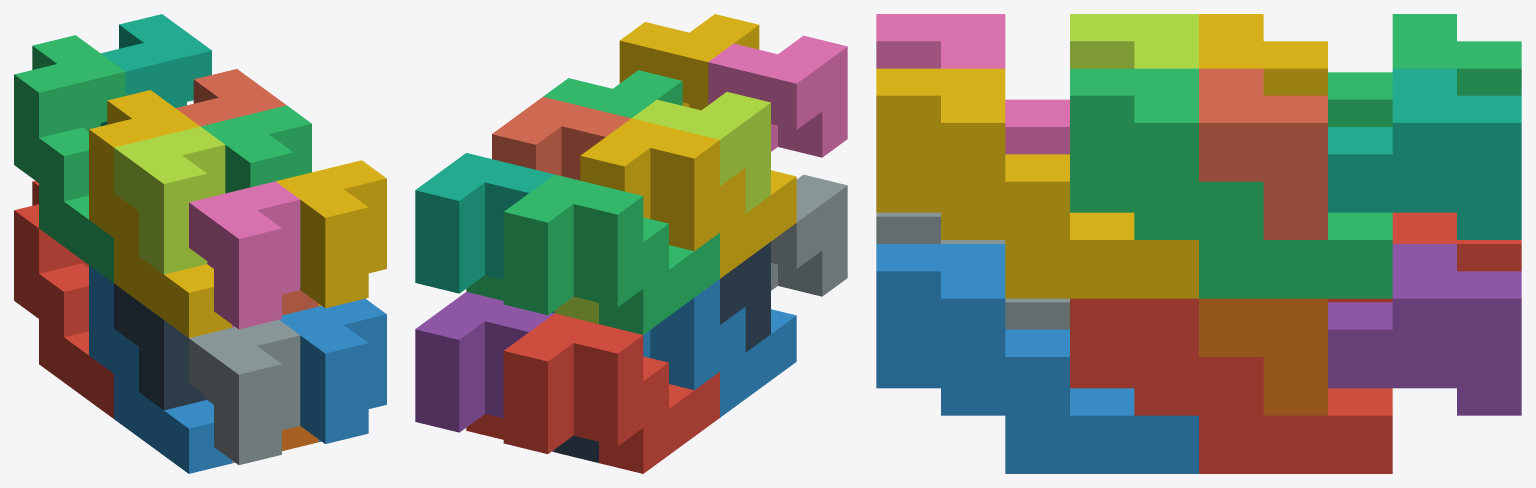
The model's file is tiling.obj.
The picture shows the model from 3 angles, left to right: view 1: azimuth 30°, elevation 25°; view 2: azimuth 150°, elevation 25°; view 3: azimuth 270°, elevation 25°; orthographic projection. The views are drawn at different scales.
Parts seen in each view (by area): view 1: copy_1_domain_3, copy_1_domain_4, copy_2_domain_4, copy_2_domain_2, copy_2_domain_8, copy_2_domain_6, copy_2_domain_3, copy_1_domain_1, copy_1_domain_2, copy_2_domain_7, copy_1_domain_7, copy_2_domain_1 (+2 smaller); view 2: copy_1_domain_1, copy_1_domain_3, copy_1_domain_4, copy_1_domain_7, copy_1_domain_5, copy_2_domain_4, copy_1_domain_2, copy_2_domain_3, copy_2_domain_2, copy_2_domain_8, copy_1_domain_8, copy_2_domain_1 (+2 smaller); view 3: copy_2_domain_8, copy_2_domain_6, copy_2_domain_7, copy_2_domain_5, copy_1_domain_5, copy_1_domain_7, copy_1_domain_8, copy_1_domain_6, copy_2_domain_4, copy_1_domain_3, copy_1_domain_4, copy_2_domain_3 (+2 smaller).
Boxes of the visible parts, <box> form: copy_1_domain_3: <box>14,35,125,282</box>; copy_1_domain_4: <box>89,90,231,337</box>; copy_2_domain_4: <box>189,181,300,329</box>; copy_2_domain_2: <box>189,320,300,464</box>; copy_2_domain_8: <box>276,160,386,308</box>; copy_2_domain_6: <box>279,298,386,443</box>; copy_2_domain_3: <box>114,126,225,274</box>; copy_1_domain_1: <box>14,180,113,418</box>; copy_1_domain_2: <box>89,265,231,473</box>; copy_2_domain_7: <box>201,105,311,193</box>; copy_1_domain_7: <box>100,14,211,126</box>; copy_2_domain_1: <box>114,283,207,410</box>; copy_1_domain_1: <box>503,313,719,473</box>; copy_1_domain_3: <box>503,174,719,334</box>; copy_1_domain_4: <box>580,118,796,278</box>; copy_1_domain_7: <box>415,153,554,313</box>; copy_1_domain_5: <box>415,292,554,452</box>; copy_2_domain_4: <box>708,35,847,157</box>; copy_1_domain_2: <box>643,279,796,417</box>; copy_2_domain_3: <box>554,92,770,323</box>; copy_2_domain_2: <box>771,174,847,296</box>; copy_2_domain_8: <box>619,14,759,110</box>; copy_1_domain_8: <box>492,97,630,180</box>; copy_2_domain_1: <box>554,242,770,462</box>; copy_2_domain_8: <box>876,68,1198,298</box>; copy_2_domain_6: <box>876,244,1198,473</box>; copy_2_domain_7: <box>1070,68,1392,298</box>; copy_2_domain_5: <box>1070,298,1392,473</box>; copy_1_domain_5: <box>1328,244,1521,415</box>; copy_1_domain_7: <box>1328,68,1521,239</box>; copy_1_domain_8: <box>1199,68,1327,239</box>; copy_1_domain_6: <box>1199,298,1327,415</box>; copy_2_domain_4: <box>876,14,1069,154</box>; copy_1_domain_3: <box>1328,14,1521,126</box>; copy_1_domain_4: <box>1199,14,1327,95</box>; copy_2_domain_3: <box>1070,14,1198,68</box>.
Size of the model in its own units: 4 by 6 by 10.
